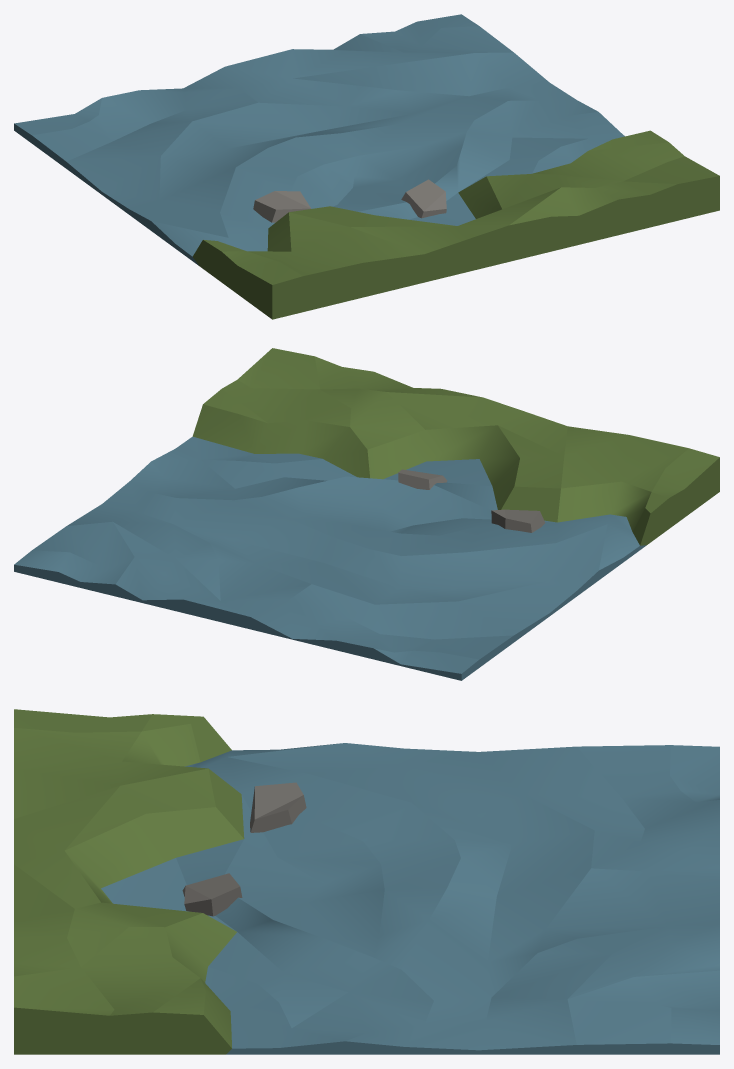
The model's file is Water_Edge_B.glb.
3 views of the same model, one above another, from view 1: azimuth 30°, elevation 25°; view 2: azimuth 150°, elevation 25°; view 3: azimuth 270°, elevation 25° (orthographic). The views are drawn at different scales.
Parts seen in each view (by area): view 1: Water_Edge_B; view 2: Water_Edge_B; view 3: Water_Edge_B.
Boxes of the visible parts, x1,y1,x2,y2 form: Water_Edge_B: (14, 14, 719, 319); Water_Edge_B: (14, 348, 719, 680); Water_Edge_B: (14, 709, 719, 1054).
Bounding box in the file's own units: 1.47 × 0.1262 × 1.47.
